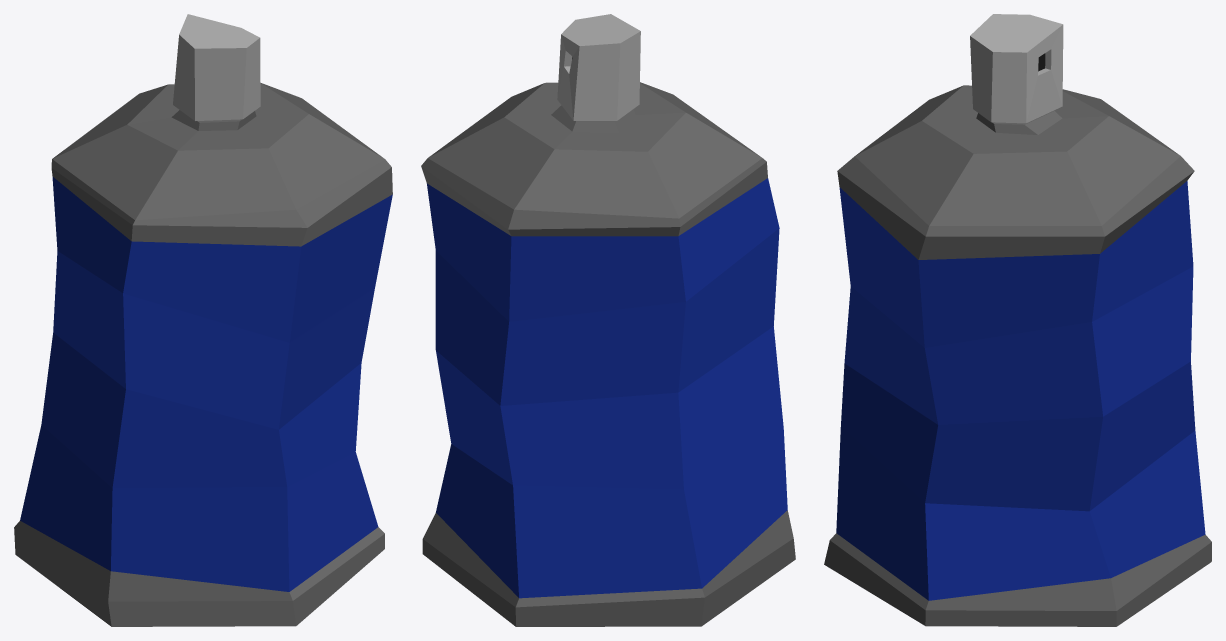
The model's file is BlueCan.fbx.
3 renders of one model, left to right at view 1: azimuth 30°, elevation 25°; view 2: azimuth 150°, elevation 25°; view 3: azimuth 270°, elevation 25°, orthographic. The views are drawn at different scales.
Visible parts, largest first — view 1: BlueCan; view 2: BlueCan; view 3: BlueCan.
Boxes of the visible parts, x1,y1,x2,y2 form: BlueCan: (14,14,392,626); BlueCan: (421,14,795,626); BlueCan: (824,14,1211,626).
Size of the model in its own units: 13.49 by 23.65 by 15.27.
